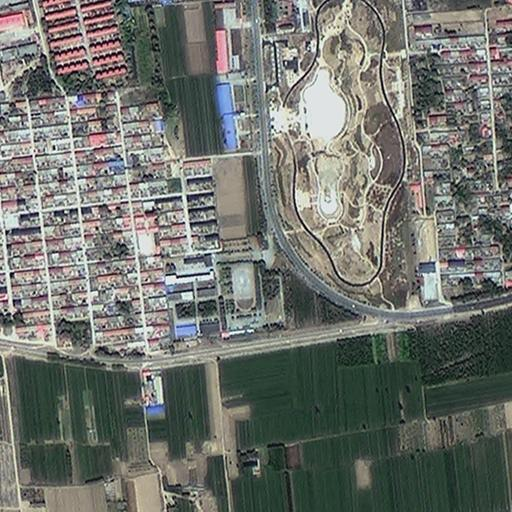school: (218, 254, 284, 337)
